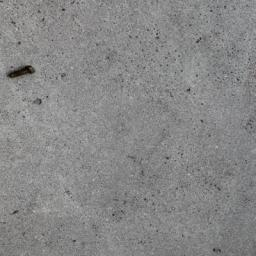FOD: (4, 63, 40, 82)
